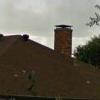Chimney: (47, 19, 79, 61)
